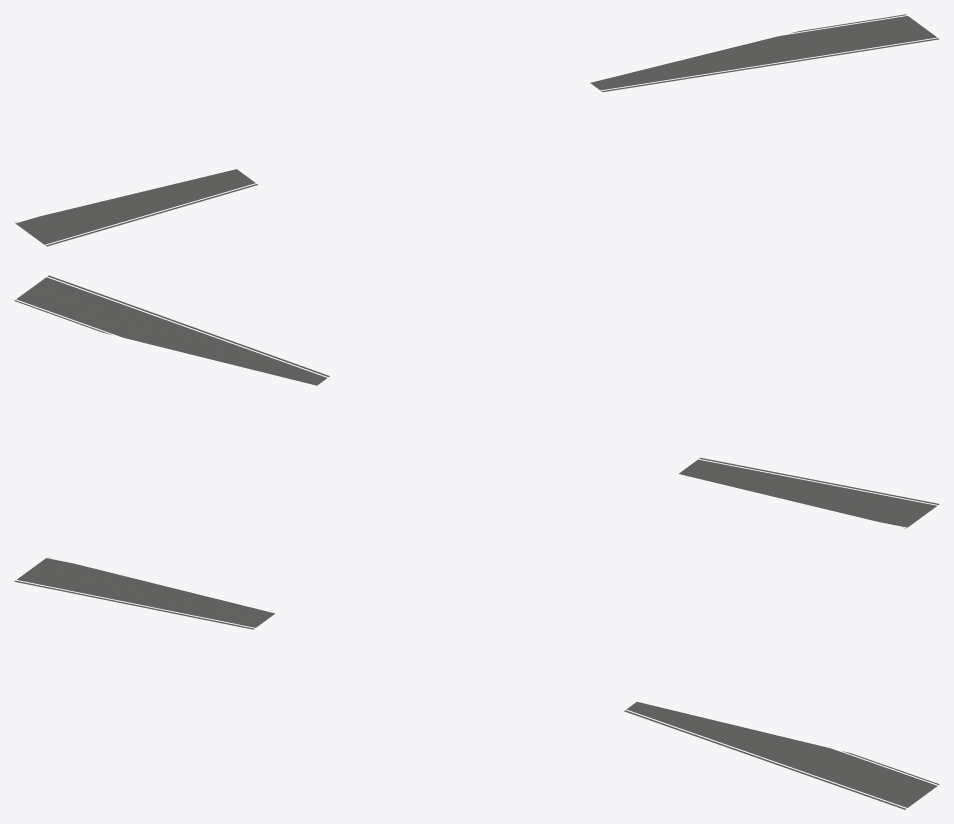
The model's file is kd_stage_13612f_0_29_bounded.glb.
3 views of the same model, one above another, from view 1: azimuth 30°, elevation 25°; view 2: azimuth 150°, elevation 25°; view 3: azimuth 330°, elevation 25° (orthographic). The views are drawn at different scales.
Visible parts, largest first — view 1: kd_stage_13612f_0_29_bounded; view 2: kd_stage_13612f_0_29_bounded; view 3: kd_stage_13612f_0_29_bounded.
Part boxes in pixels (x1,y1,x2,y2): kd_stage_13612f_0_29_bounded: (14, 14, 939, 246); kd_stage_13612f_0_29_bounded: (14, 275, 939, 528); kd_stage_13612f_0_29_bounded: (14, 557, 939, 809).
Bounding box in the file's own units: 105 × 0.1236 × 9.05.
Materials: 1 (1 with a texture image).
